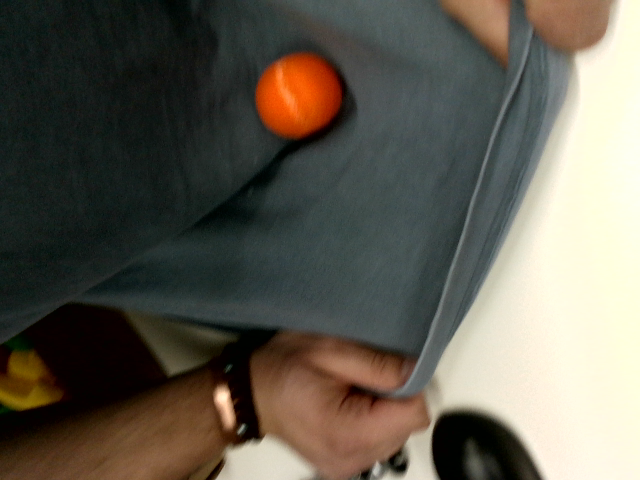orange: (240, 38, 357, 152)
